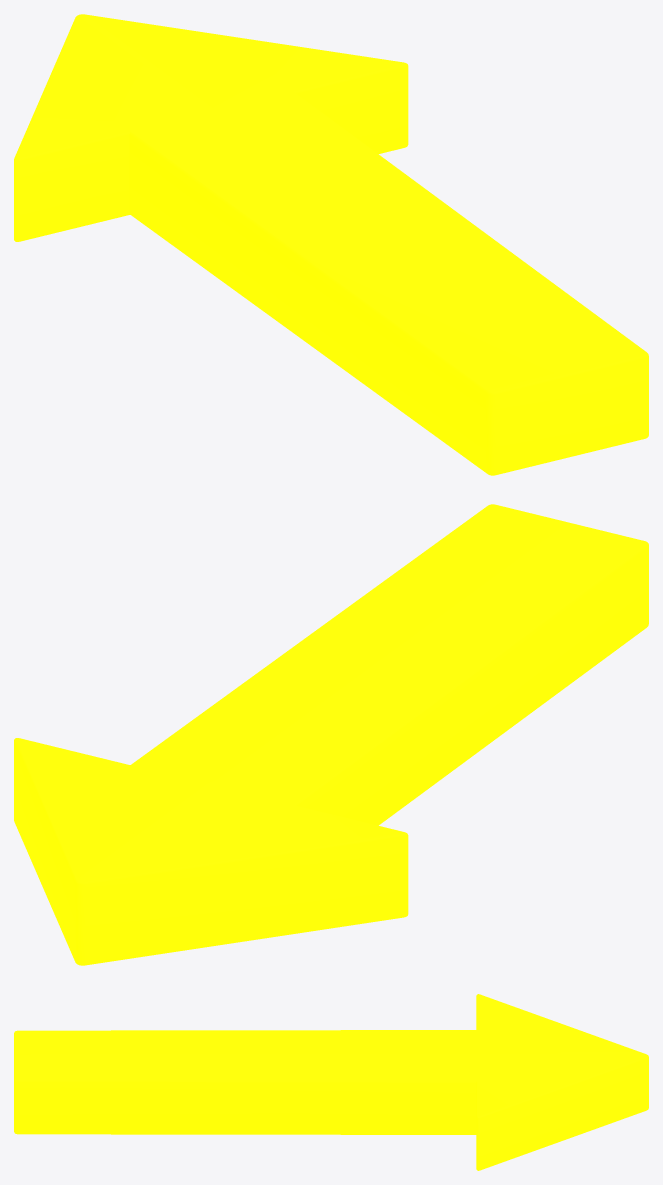
Rendered from arrow1.fbx.
3 views of the same model, one above another, from view 1: azimuth 30°, elevation 25°; view 2: azimuth 150°, elevation 25°; view 3: azimuth 270°, elevation 25° (orthographic). The views are drawn at different scales.
Visible parts, largest first — view 1: Arrow 4; view 2: Arrow 4; view 3: Arrow 4.
Part boxes in pixels (x1,y1,x2,y2): Arrow 4: (14,14,648,475); Arrow 4: (14,504,648,965); Arrow 4: (14,994,648,1170).
Bounding box in the file's own units: 53.46 × 10.9 × 116.
